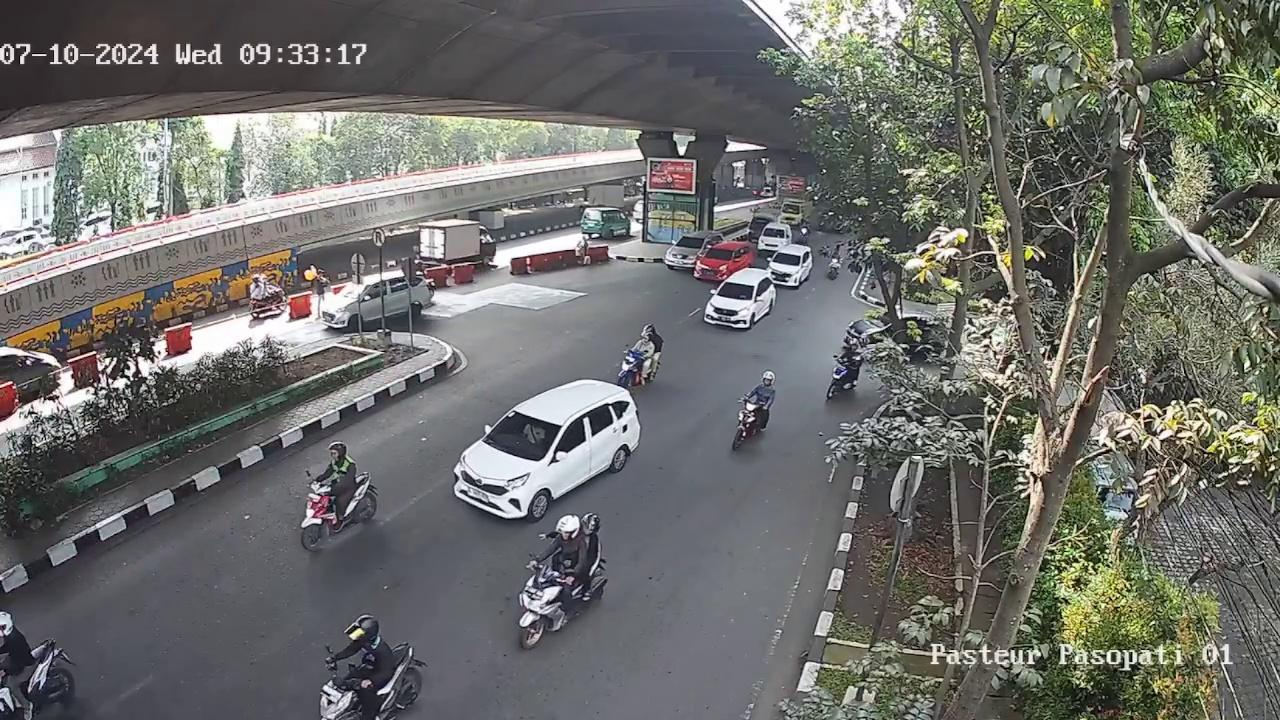pakai: (521, 420, 546, 444)
windshield: (486, 407, 563, 460), (718, 283, 756, 300), (771, 251, 803, 265), (704, 247, 734, 259), (676, 235, 704, 247)
